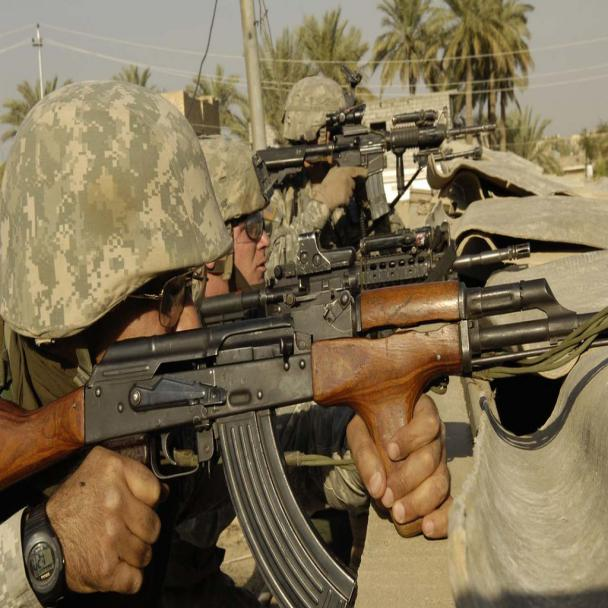Gun: (5, 228, 608, 443), (257, 104, 499, 178)
Hand: (46, 432, 184, 599), (342, 393, 476, 548), (314, 163, 370, 213)
